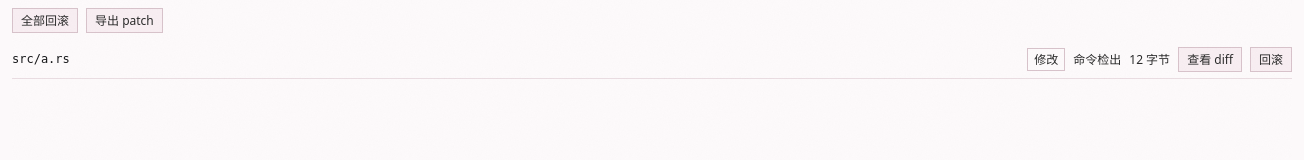
Scenario: FileChangesPanel 交互(批次 4c) › 点「回滚」→ 确认后调接口、显示结果并重拉清单(回滚自身会多一条行)
Click the button "回滚" at (1271, 60), box [1250, 47, 1292, 72]
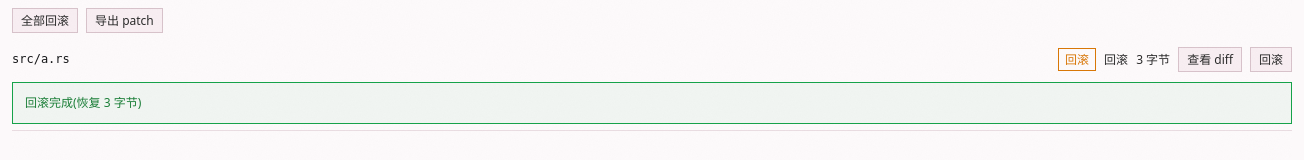
Expected: the text "回滚完成" is shown, [25, 94, 141, 111]
